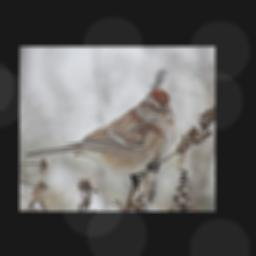Sparrow: (24, 88, 177, 191)
